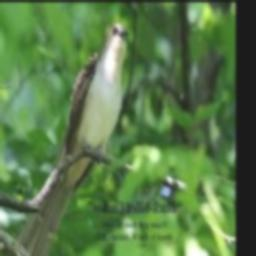Cuckoo: (10, 24, 129, 256)
